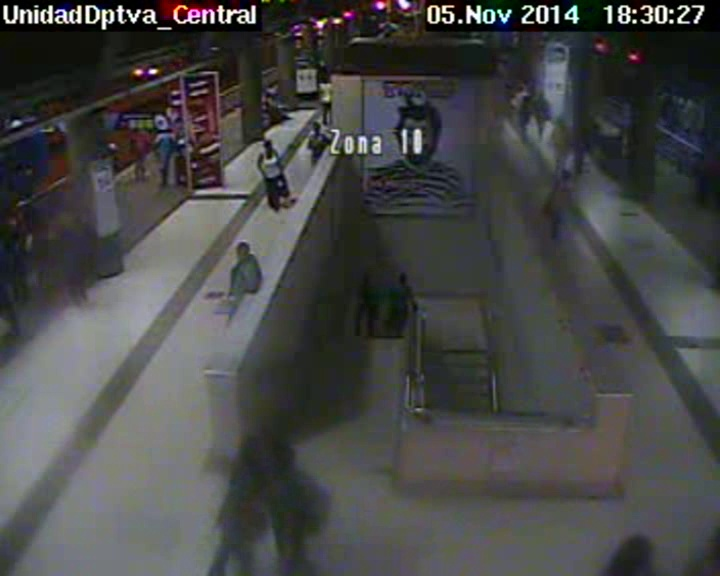person: (272, 445, 296, 472), (237, 438, 261, 462), (554, 168, 574, 187), (234, 242, 253, 260), (394, 272, 411, 290), (20, 214, 36, 232), (359, 271, 375, 287), (307, 121, 325, 134), (63, 211, 76, 227), (534, 84, 548, 98), (262, 139, 277, 152), (515, 81, 529, 94), (157, 125, 172, 137), (266, 78, 279, 91), (132, 122, 145, 134), (556, 118, 568, 131), (576, 114, 586, 127), (319, 75, 328, 85)
